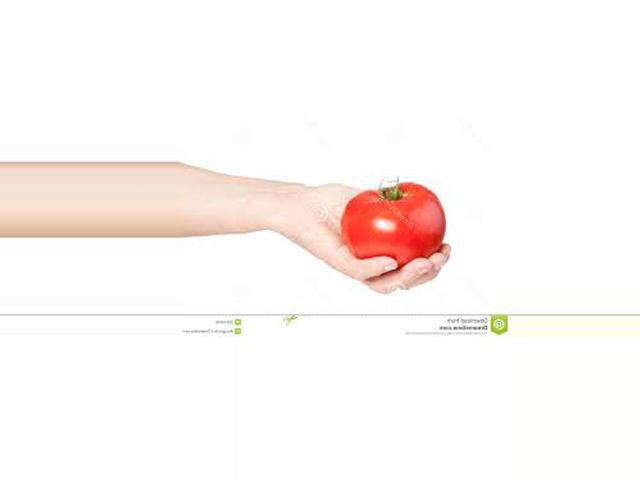tomato: (339, 181, 445, 268)
